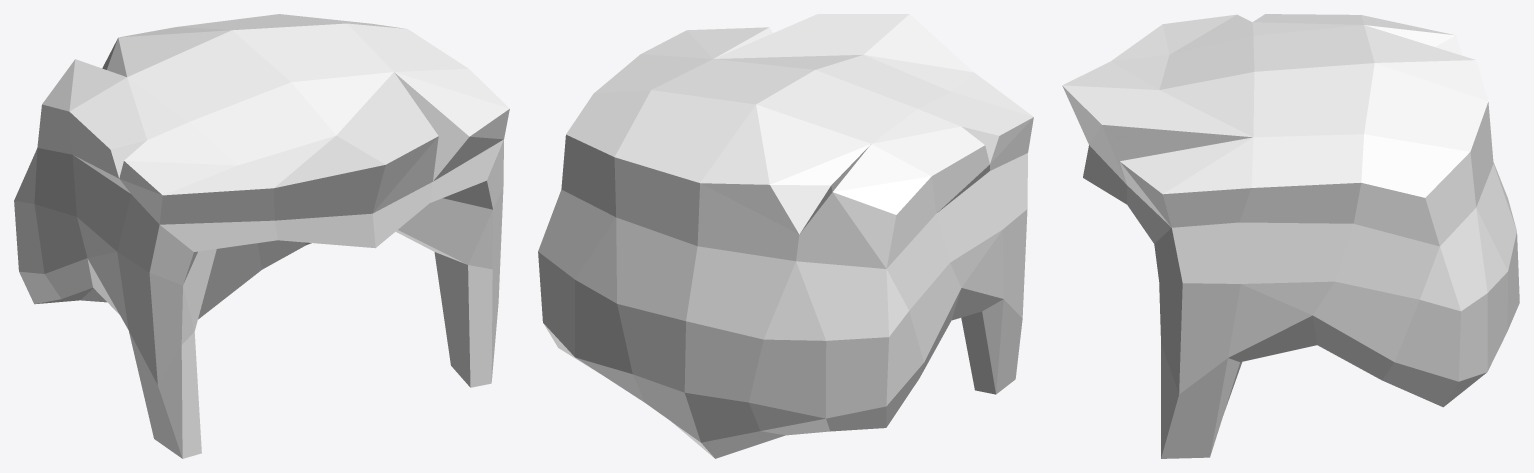
Rendered from SM_Chr_Attach_Hair_06.fbx.
3 views of the same model, side by side, from view 1: azimuth 30°, elevation 25°; view 2: azimuth 150°, elevation 25°; view 3: azimuth 270°, elevation 25° (orthographic).
Visible parts, largest first — view 1: SM_Chr_Attach_Hair_06; view 2: SM_Chr_Attach_Hair_06; view 3: SM_Chr_Attach_Hair_06.
Boxes of the visible parts, x1,y1,x2,y2 form: SM_Chr_Attach_Hair_06: [14, 14, 509, 458]; SM_Chr_Attach_Hair_06: [538, 14, 1033, 458]; SM_Chr_Attach_Hair_06: [1062, 14, 1519, 458].
Size of the model in its own units: 23.83 by 20.44 by 25.7.
Materials: 1 (1 with a texture image).
